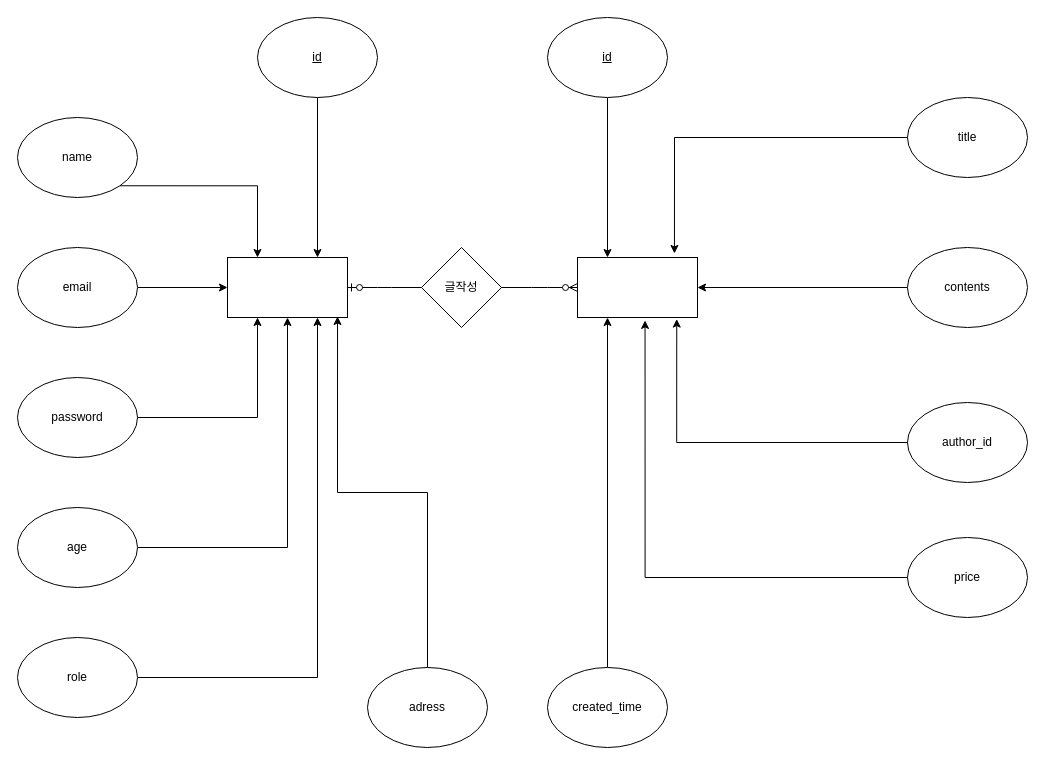
The diagram is 1045 pixels wide and 765 high, and some of its shapes have lost their labels. The shapes that lost their labels are listed below. From the top down, each one's centre as x and y in pixels, then its label:
At (287,287): "글쓴이".
At (637,287): "글목록".
